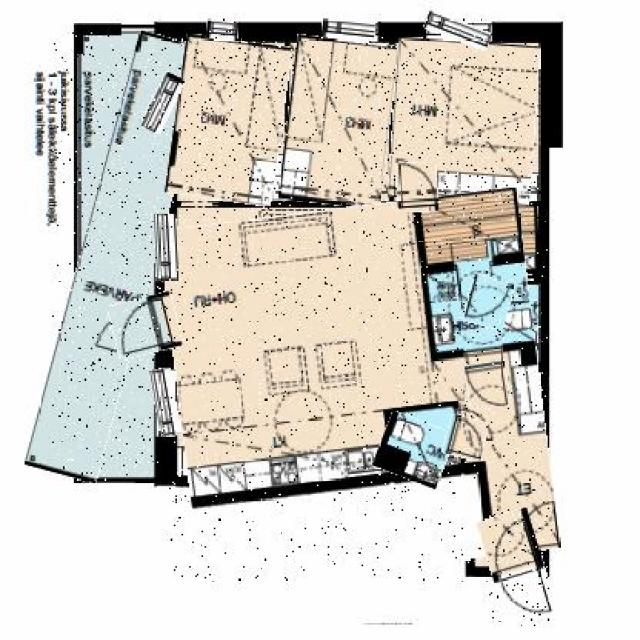door: (485, 511, 552, 626), (111, 294, 180, 357), (465, 277, 512, 328), (466, 362, 509, 409), (397, 163, 438, 212), (445, 417, 486, 460)
window: (146, 71, 180, 134), (424, 17, 490, 45), (152, 369, 178, 437), (154, 215, 178, 283), (323, 20, 375, 42), (208, 18, 238, 40)
zone: (169, 197, 549, 581), (52, 32, 183, 482), (391, 40, 538, 203), (171, 37, 286, 203), (283, 37, 394, 208), (438, 278, 538, 362), (438, 208, 538, 277), (376, 417, 452, 485)
